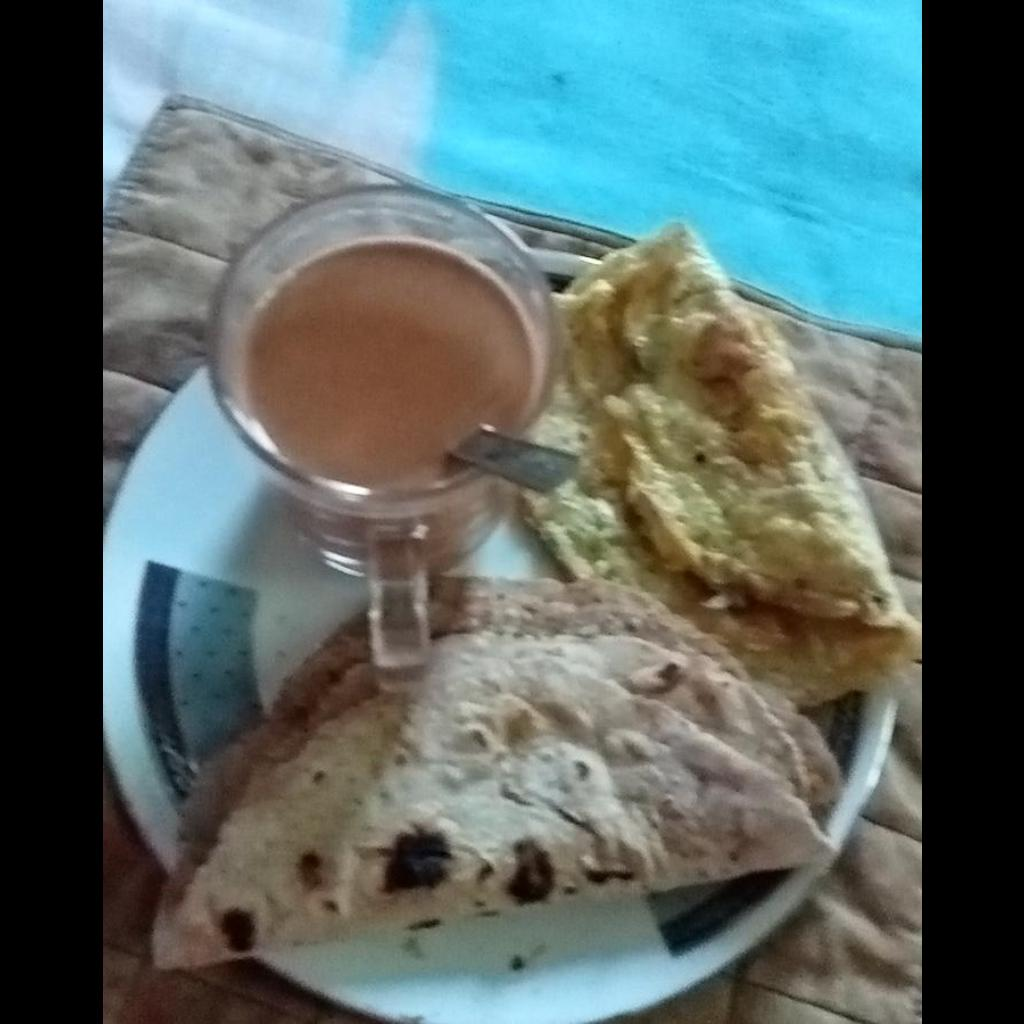cha: (240, 249, 526, 487)
egg-poached: (535, 224, 914, 700)
ruti: (151, 576, 845, 971)
